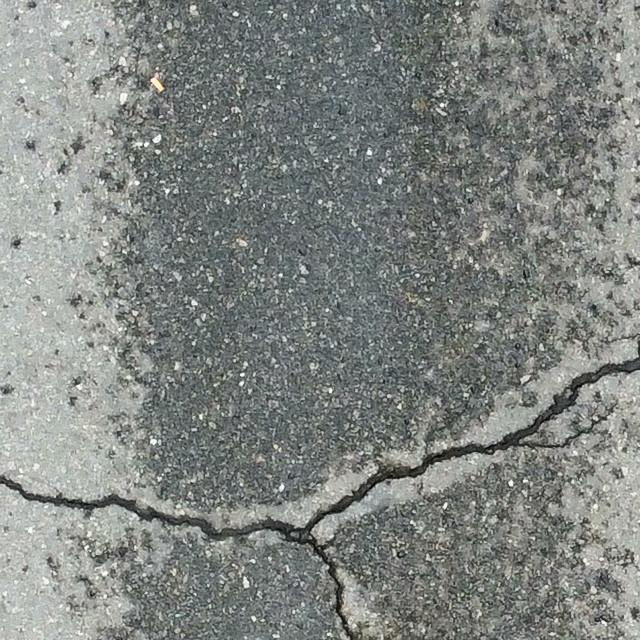LongitudinalCrack: (307, 538, 355, 640)
TransverseCrack: (1, 354, 640, 541)
